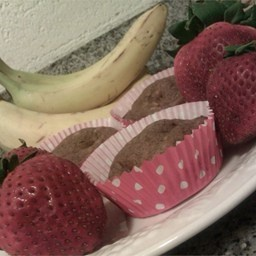background: (0, 1, 67, 102), (49, 0, 102, 59), (40, 26, 83, 71)
